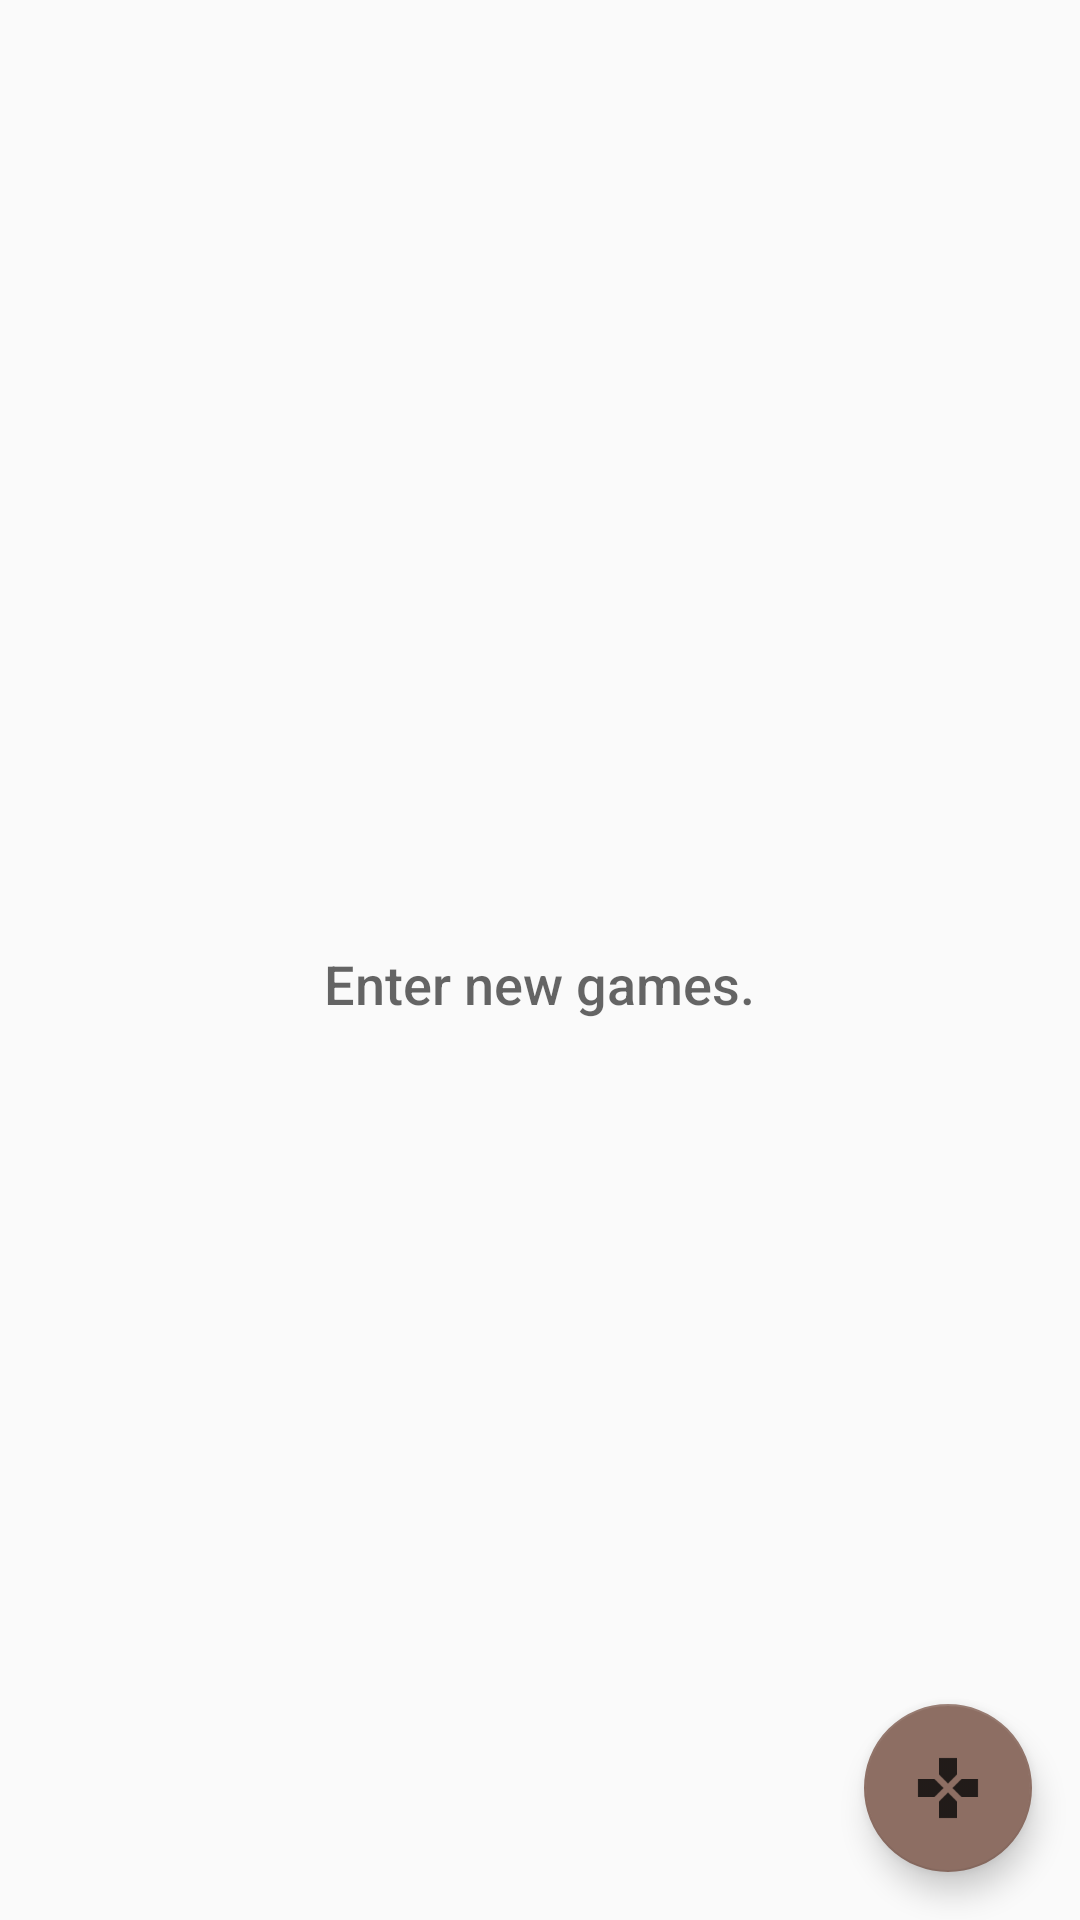

Icon bounding boxes for this 1080px×1920px phone screenshot, format [x1,y1,x2,y2]:
floating action: [864,1704,1032,1872]
